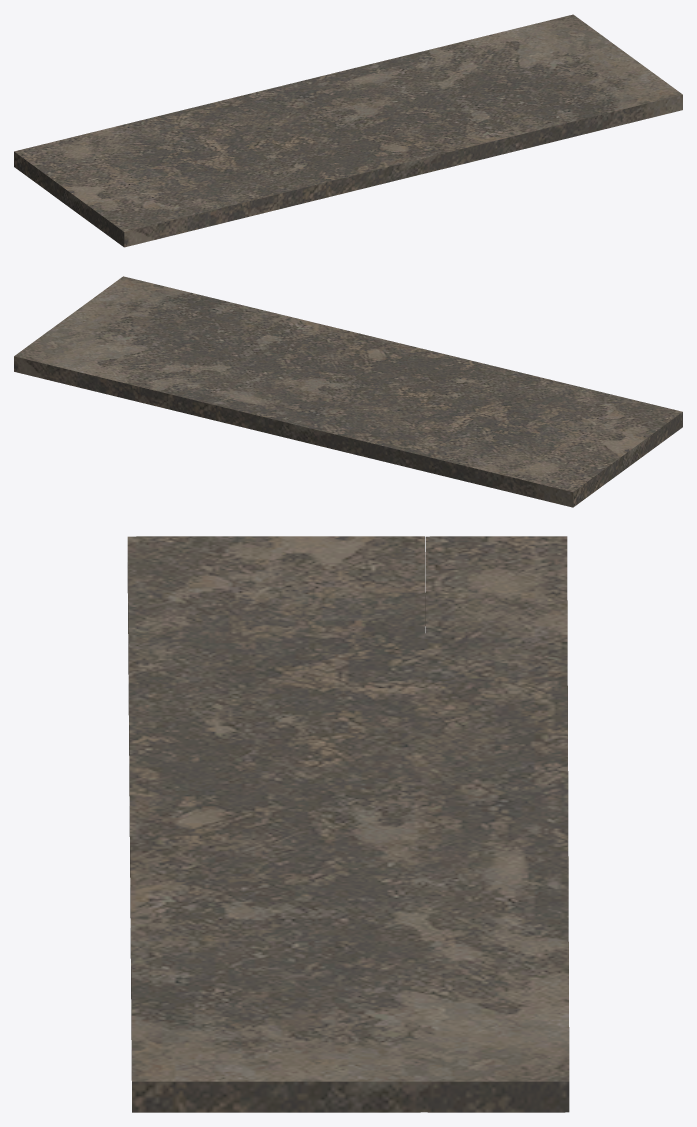
Rendered from Floor5.fbx.
The picture shows the model from 3 angles, top to bottom: view 1: azimuth 30°, elevation 25°; view 2: azimuth 150°, elevation 25°; view 3: azimuth 270°, elevation 25°; orthographic projection. The views are drawn at different scales.
Visible parts, largest first — view 1: Extrud34920D2_LOD0; view 2: Extrud34920D2_LOD0; view 3: Extrud34920D2_LOD0.
Boxes of the visible parts, bbox=[...] form: Extrud34920D2_LOD0: bbox=[14, 14, 682, 247]; Extrud34920D2_LOD0: bbox=[14, 276, 682, 507]; Extrud34920D2_LOD0: bbox=[127, 536, 569, 1112].
Bounding box in the file's own units: 228 × 6 × 77.89.
